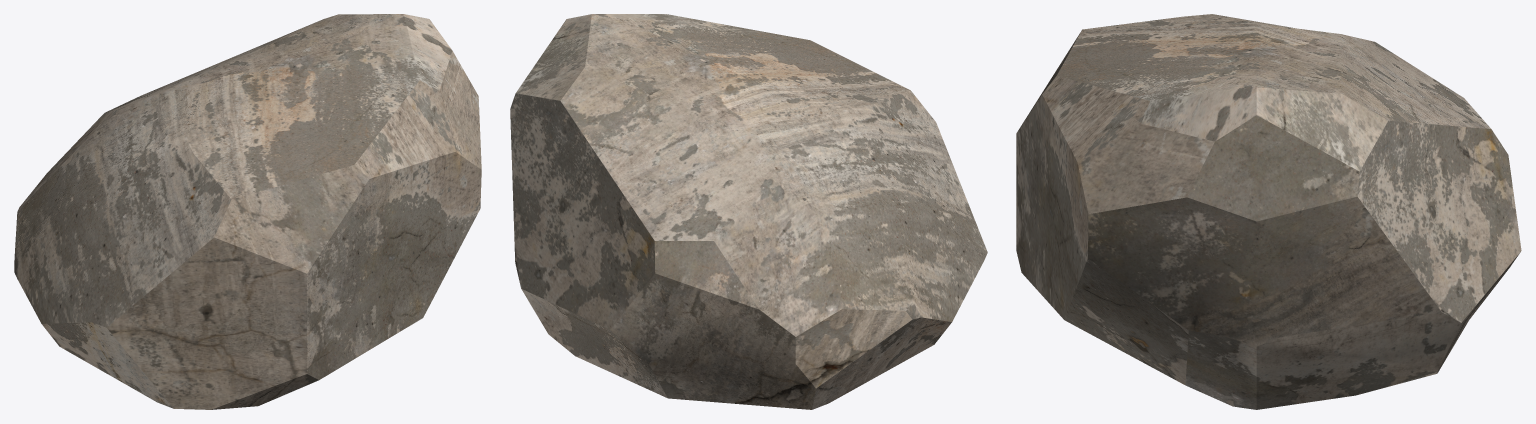
Rendered from Rock8.fbx.
3 views of the same model, side by side, from view 1: azimuth 30°, elevation 25°; view 2: azimuth 150°, elevation 25°; view 3: azimuth 270°, elevation 25° (orthographic). The views are drawn at different scales.
Parts seen in each view (by area): view 1: Rock8; view 2: Rock8; view 3: Rock8.
Boxes of the visible parts, x1,y1,x2,y2 form: Rock8: (14,14,481,409); Rock8: (510,14,987,409); Rock8: (1016,14,1521,409).
Bounding box in the file's own units: 345 × 222 × 307.
1 material, 1 textured.
